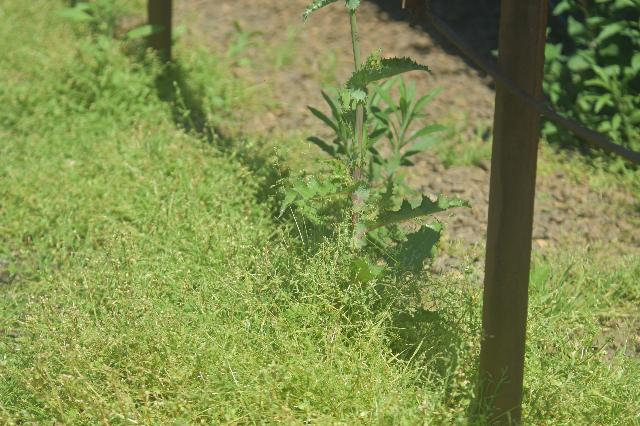MalezaMontesDelPlata: (300, 2, 474, 346), (0, 288, 155, 426), (530, 258, 640, 426), (156, 289, 297, 418), (294, 345, 482, 426), (548, 0, 640, 150)
